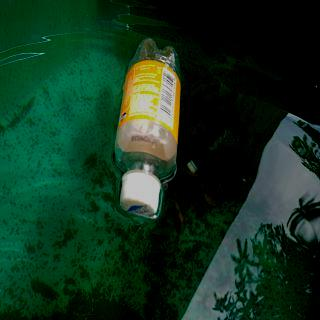bottle: (112, 35, 181, 219)
